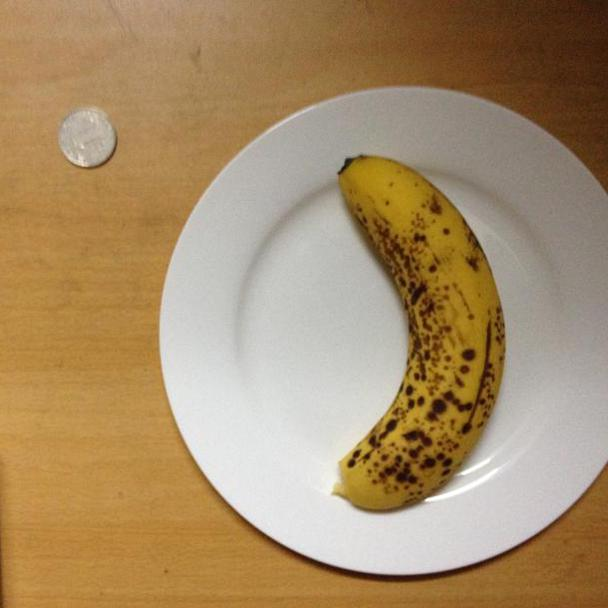banana: (328, 150, 511, 515)
